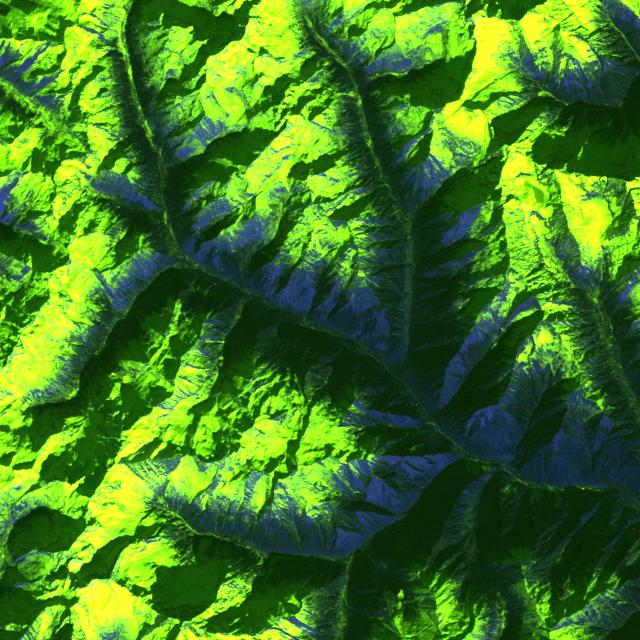landslides: (314, 90, 360, 116), (110, 477, 139, 498), (524, 257, 551, 278), (255, 556, 272, 586), (343, 595, 364, 618), (359, 269, 379, 287), (142, 248, 161, 266), (35, 411, 48, 437), (12, 538, 38, 551), (196, 133, 210, 156), (197, 336, 227, 344), (565, 261, 581, 274), (247, 558, 261, 572), (249, 569, 264, 582), (480, 608, 495, 620), (476, 618, 501, 625), (239, 557, 251, 571), (379, 206, 388, 219)
